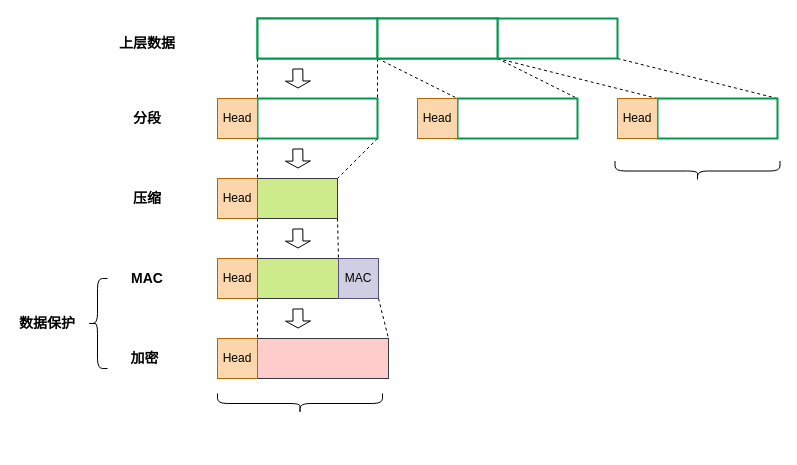
Image size: 797x465. Some labels were removed from this diagram. The shapes that lost their labels are listed below. From the top down, each one's box as (x1, y1, x2, y2) in pixels, then its label:
(614, 160, 780, 181): TLSPlaintext
(216, 392, 382, 414): TLSCiphertext
